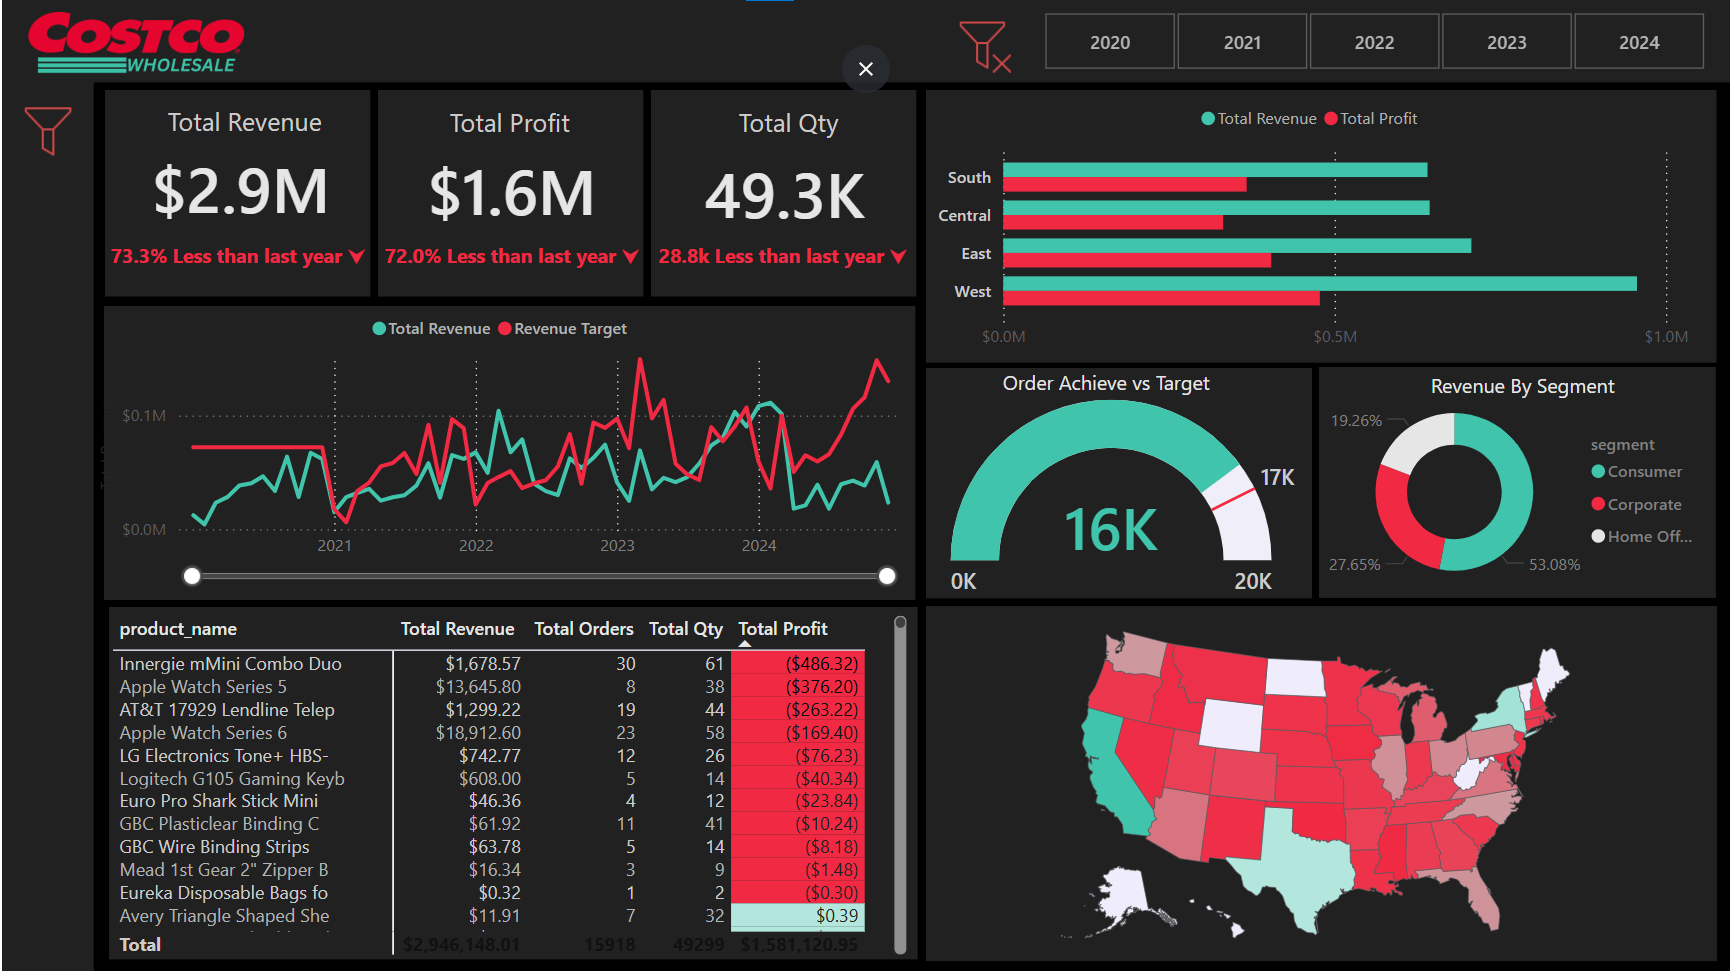

This screenshot's page, from the dashboard's own definition file:
{"tool":"powerbi","page":{"name":"Page 1","canvas":[1280,720],"ordinal":0},"visuals":[{"type":"shape","box":[0,0,1280,61],"z":0,"group":"g15"},{"type":"shape","box":[0,61,68,659],"z":0,"group":"g5"},{"type":"shape","title":"Bar chart shape","box":[684.4,66.7,585.6,202.1],"z":0,"group":"g13"},{"type":"shape","title":"Shape_Total Rev","box":[76,66.9,196.5,153.1],"z":0,"group":"g11"},{"type":"shape","title":"Shape_Total Profit","box":[278.6,66.9,196.5,153.1],"z":0,"group":"g7"},{"type":"group","id":"g1","title":"Total Qty","box":[467,66.9,223.3,153.1],"z":0,"group":"g6"},{"type":"shape","title":"Shape_Total Qty","box":[481.3,66.9,196.5,153.1],"z":0,"group":"g1"},{"type":"group","id":"g2","title":"Line Chart","box":[67,224,609.7,220.5],"z":0,"group":"g14"},{"type":"shape","title":"Line Chart Shape","box":[75.6,226.7,601.1,217.8],"z":0,"group":"g2"},{"type":"group","id":"g3","title":"Pie Chart","box":[969.3,270.4,300.4,183],"z":0,"group":"g12"},{"type":"shape","title":"Shape","box":[974.9,272.1,294,171],"z":0,"group":"g3"},{"type":"shape","title":"Shape","box":[684.4,272.7,285.9,170.7],"z":0,"group":"g8"},{"type":"group","id":"g4","title":"Map","box":[680,449,590,263.3],"z":0,"group":"g9"},{"type":"shape","box":[684.1,449,585.9,263],"z":0,"group":"g4"},{"type":"shape","box":[79.1,450,599,261.3],"z":0,"group":"g10"},{"type":"group","id":"g5","title":"Side Panel","box":[0,61,68,659],"z":500},{"type":"image","title":"Clear Filters - Image","box":[704.2,5.9,47.6,57.1],"z":1000,"group":"g15"},{"type":"group","id":"g6","title":"KPIs","box":[63,60,627.3,160],"z":1000,"group":"g14"},{"type":"group","id":"g7","title":"Total Profit","box":[266.1,60,223.3,160],"z":1000,"group":"g6"},{"type":"card","title":"Total Profit Card","fields":{"Values":["measures_.Total Profit"]},"box":[279.3,60,196.7,159.9],"z":1000,"group":"g7"},{"type":"card","title":"Total Rev Card","fields":{"Values":["measures_.Total Revenue"]},"box":[75.6,60.1,202.5,157.3],"z":1000,"group":"g11"},{"type":"card","title":"Total Qty Card","fields":{"Values":["measures_.Total Qty"]},"box":[484.8,66.9,190.4,151],"z":1000,"group":"g1"},{"type":"clusteredBarChart","title":"Chart - Total Rev & profit by region","fields":{"Category":["customers.region"],"Y":["measures_.Total Revenue","measures_.Total Profit"]},"box":[686.7,67.9,567.9,199.3],"z":1000,"group":"g13"},{"type":"image","title":"Filter - Image","box":[9.5,69,48.8,57.1],"z":1000,"group":"g5"},{"type":"lineChart","fields":{"Y2":["measures_.Revenue Target"],"Y":["measures_.Total Revenue"],"Category":["Date Table.Month Start Date"]},"box":[67,224,607.9,214.3],"z":1000,"group":"g2"},{"type":"group","id":"g8","title":"Gauge Chart","box":[684.4,268,286.2,182.6],"z":1000,"group":"g12"},{"type":"donutChart","title":"Pie Chart","fields":{"Y":["measures_.Total Revenue"],"Category":["customers.segment"]},"box":[969.3,275.7,300.4,177.6],"z":1000,"group":"g3"},{"type":"gauge","title":"Gauge Chart","fields":{"Y":["measures_.Total Orders"],"TargetValue":["measures_.Total Order Target"],"MaxValue":["measures_.Gauge Max Value"]},"box":[695.1,290.8,275.5,159.8],"z":1000,"group":"g8"},{"type":"group","id":"g9","title":"sec 3/3","box":[77,449,1193,263.3],"z":1000},{"type":"group","id":"g10","title":"Matrix","box":[77,450,601.1,261.6],"z":1000,"group":"g9"},{"type":"shapeMap","fields":{"Category":["customers.state"],"Value":["measures_.Total Revenue"]},"box":[680,450.3,585.9,262],"z":1000,"group":"g4"},{"type":"pivotTable","fields":{"Rows":["products.product_name"],"Values":["measures_.Total Revenue","measures_.Total Orders","measures_.Total Qty","measures_.Total Profit"]},"box":[77,451.1,597.7,260.5],"z":1000,"group":"g10"},{"type":"textbox","box":[735.9,268,198.1,29.8],"z":1500,"group":"g8"},{"type":"textbox","title":"Title textBox","box":[1052.7,270.4,159.8,37.7],"z":1500,"group":"g3"},{"type":"slicer","title":"Year Slicer","fields":{"Values":["Date Table.Year"]},"box":[751.8,5.9,528.2,48.8],"z":2000,"group":"g15"},{"type":"group","id":"g11","title":"Total Revenue","box":[63,60.1,223.3,159.9],"z":2000,"group":"g6"},{"type":"group","id":"g12","title":"sec 2/3","box":[684.4,66.7,585.6,386.7],"z":2000},{"type":"group","id":"g13","title":"Bar Chart","box":[684.4,66.7,585.6,202.1],"z":2000,"group":"g12"},{"type":"textbox","title":"total revText box","box":[118,72,145.5,38.3],"z":2000,"group":"g11"},{"type":"textbox","title":"total qtyText box","box":[541.3,72.6,120.7,38.3],"z":2000,"group":"g1"},{"type":"textbox","title":"total profitText box","box":[327,72.7,145.5,38.3],"z":2000,"group":"g7"},{"type":"image","title":"Logo","box":[0,0,199.6,68.8],"z":3000,"group":"g15"},{"type":"group","id":"g14","title":"sec 1/3","box":[63,60,627.3,384.4],"z":3000},{"type":"card","title":"profit diff rate","fields":{"Values":["measures_.Profit diff"]},"box":[266.1,174.8,223.3,33.8],"z":3000,"group":"g7"},{"type":"card","title":"qty diff rate","fields":{"Values":["measures_.Qty diff"]},"box":[467,174.8,223.3,33.8],"z":3000,"group":"g1"},{"type":"card","title":"rev diff rate","fields":{"Values":["measures_.Rev Diff"]},"box":[63,175,223.3,33.8],"z":3000,"group":"g11"},{"type":"group","id":"g15","title":"Heading","box":[0,0,1280,68.8],"z":4000}]}

Visuals, with their boxes in screenshot pixels (x1, y1, x2, y2), scaled from the page's 1280x720 canvas onto the 1732x971 screenshot:
shape: l=0, t=0, r=1731, b=82
shape: l=0, t=82, r=92, b=970
"Bar chart shape" shape: l=926, t=90, r=1718, b=363
"Shape_Total Rev" shape: l=103, t=90, r=369, b=297
"Shape_Total Profit" shape: l=377, t=90, r=643, b=297
"Total Qty" group: l=632, t=90, r=934, b=297
"Shape_Total Qty" shape: l=651, t=90, r=917, b=297
"Line Chart" group: l=91, t=302, r=916, b=599
"Line Chart Shape" shape: l=102, t=306, r=916, b=599
"Pie Chart" group: l=1312, t=365, r=1718, b=611
"Shape" shape: l=1319, t=367, r=1717, b=598
"Shape" shape: l=926, t=368, r=1313, b=598
"Map" group: l=920, t=606, r=1718, b=961
shape: l=926, t=606, r=1718, b=960
shape: l=107, t=607, r=918, b=959
"Side Panel" group: l=0, t=82, r=92, b=970
"Clear Filters - Image" image: l=953, t=8, r=1017, b=85
"KPIs" group: l=85, t=81, r=934, b=297
"Total Profit" group: l=360, t=81, r=662, b=297
"Total Profit Card" card: l=378, t=81, r=644, b=297
"Total Rev Card" card: l=102, t=81, r=376, b=293
"Total Qty Card" card: l=656, t=90, r=914, b=294
"Chart - Total Rev & profit by region" clusteredBarChart: l=929, t=92, r=1698, b=360
"Filter - Image" image: l=13, t=93, r=79, b=170
lineChart - measures_.Revenue Target x measures_.Total Revenue: l=91, t=302, r=913, b=591
"Gauge Chart" group: l=926, t=361, r=1313, b=608
"Pie Chart" donutChart: l=1312, t=372, r=1718, b=611
"Gauge Chart" gauge: l=941, t=392, r=1313, b=608
"sec 3/3" group: l=104, t=606, r=1718, b=961
"Matrix" group: l=104, t=607, r=918, b=960
shapeMap - customers.state x measures_.Total Revenue: l=920, t=607, r=1713, b=961
pivotTable - products.product_name x measures_.Total Revenue: l=104, t=608, r=913, b=960
textbox: l=996, t=361, r=1264, b=402
"Title textBox" textbox: l=1424, t=365, r=1641, b=416
"Year Slicer" slicer: l=1017, t=8, r=1731, b=74
"Total Revenue" group: l=85, t=81, r=387, b=297
"sec 2/3" group: l=926, t=90, r=1718, b=611
"Bar Chart" group: l=926, t=90, r=1718, b=363
"total revText box" textbox: l=160, t=97, r=357, b=149
"total qtyText box" textbox: l=732, t=98, r=896, b=150
"total profitText box" textbox: l=442, t=98, r=639, b=150
"Logo" image: l=0, t=0, r=270, b=93
"sec 1/3" group: l=85, t=81, r=934, b=599
"profit diff rate" card: l=360, t=236, r=662, b=281
"qty diff rate" card: l=632, t=236, r=934, b=281
"rev diff rate" card: l=85, t=236, r=387, b=282
"Heading" group: l=0, t=0, r=1731, b=93
